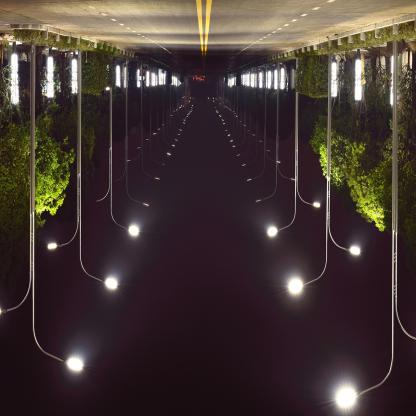Streetlights 1: (286, 38, 367, 308), (44, 39, 119, 301)
